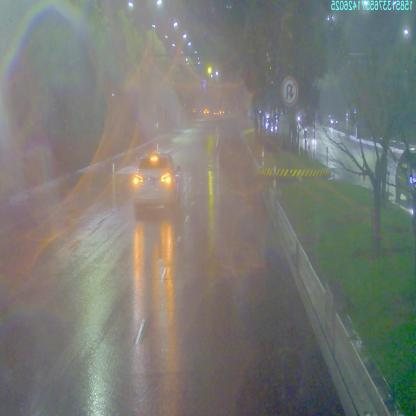traffic-light: (206, 64, 213, 76)
